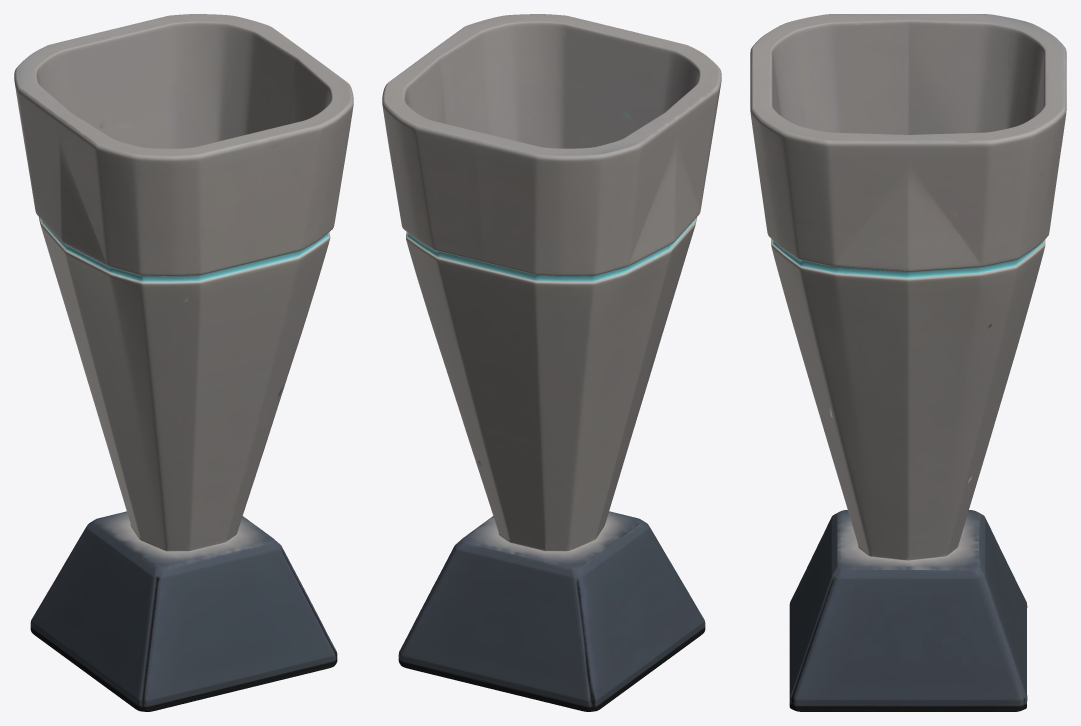
Rendered from trophy-c.glb.
The picture shows the model from 3 angles, left to right: view 1: azimuth 30°, elevation 25°; view 2: azimuth 150°, elevation 25°; view 3: azimuth 270°, elevation 25°; orthographic projection. The views are drawn at different scales.
Visible parts, largest first — view 1: material; view 2: material; view 3: material.
Part boxes in pixels (x1,y1,x2,y2): material: (14,14,353,711); material: (382,14,721,711); material: (750,14,1066,711).
Bounding box in the file's own units: 0.4976 × 1.05 × 0.5153.
1 material, 1 textured.
